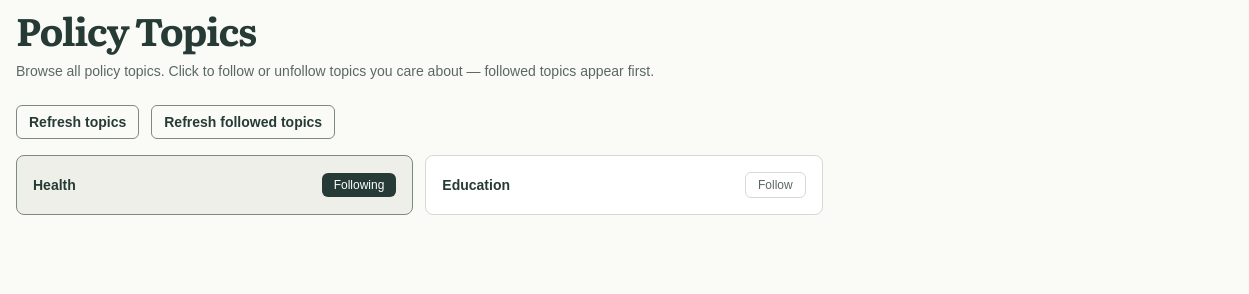
it: TopicsPage › keeps topics visible when refresh fails and retries only the topic list
expect the link "Health" is shown: met, box left=33, top=177, right=76, bottom=193
Step 1. Click the button "Refresh topics" → (78, 122), box left=16, top=105, right=139, bottom=139
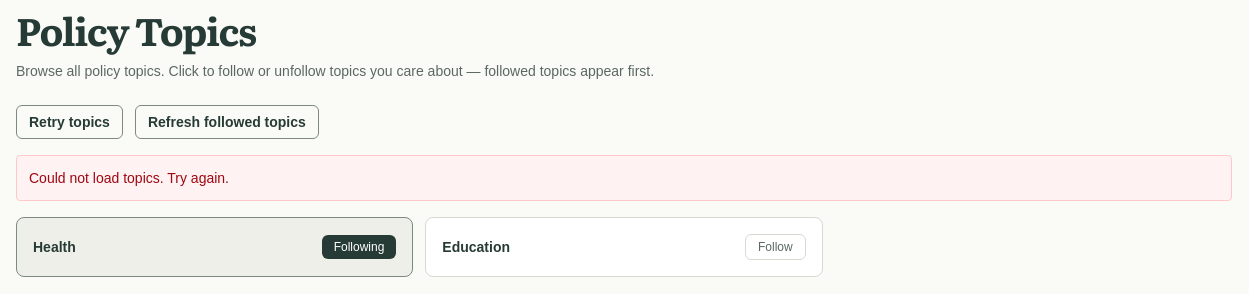
expect the link "Health" is shown: met, box left=33, top=239, right=76, bottom=255
expect the text "Could not load topics. Try again." is shown: met, box left=16, top=155, right=1232, bottom=201
Step 2. Click the button "Retry topics" → (69, 122), box left=16, top=105, right=123, bottom=139
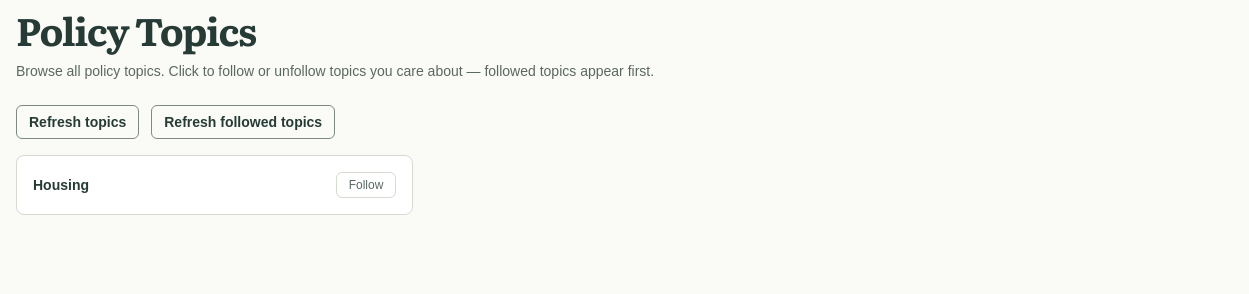
expect the link "Housing" is shown: met, box left=33, top=177, right=89, bottom=193
expect the text "Could not load topics. Try again." is gone: met
